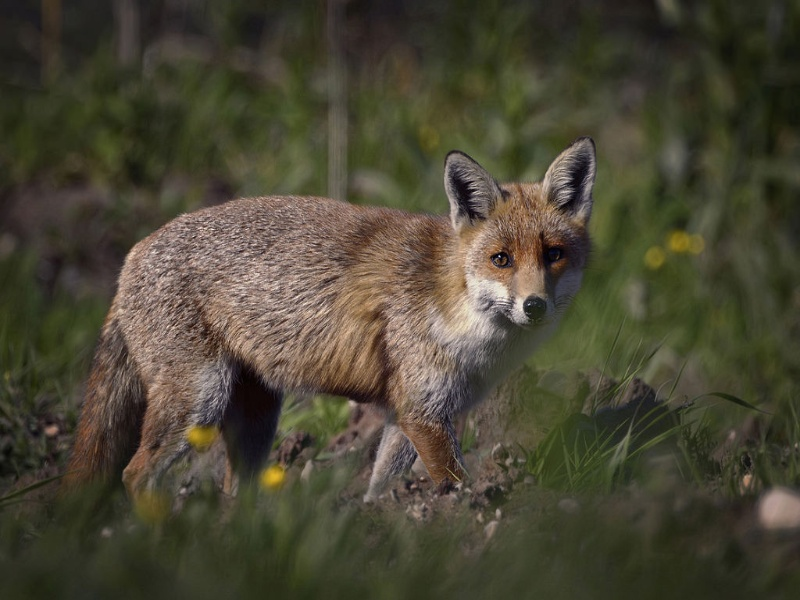fox: (52, 131, 603, 555)
